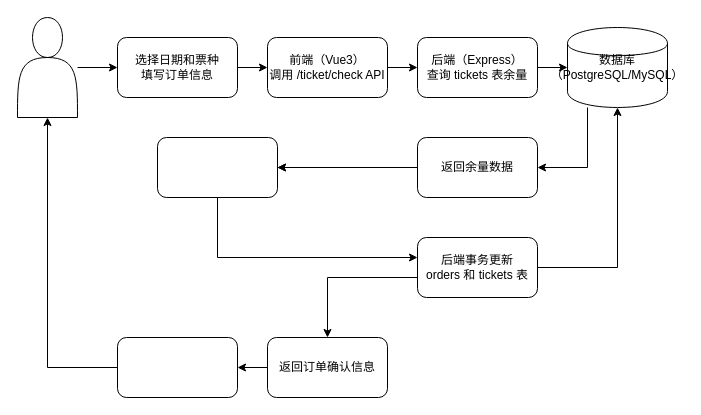
This 701x415 diagram has some shape labels left out. Each missing label, with the centre of its shape:
"前端提交订单 调用 /order/create API" goes at point 217,167.
"展示订单详情" goes at point 177,367.
"游客" goes at point 47,67.
